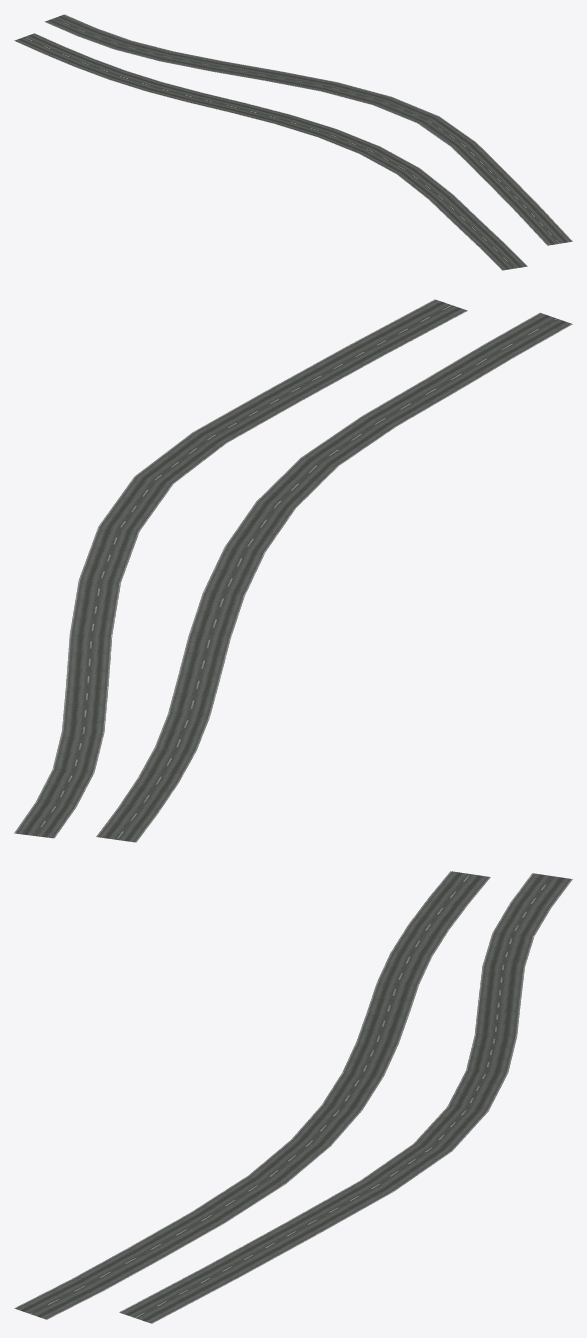
The model's file is lodcuntwroad11.obj.
3 views of the same model, one above another, from view 1: azimuth 30°, elevation 25°; view 2: azimuth 150°, elevation 25°; view 3: azimuth 330°, elevation 25° (orthographic). The views are drawn at different scales.
Parts seen in each view (by area): view 1: LODcuntwroad11; view 2: LODcuntwroad11; view 3: LODcuntwroad11.
Boxes of the visible parts, box(x1,y1,x2,y2) form: LODcuntwroad11: box(14, 14, 572, 270); LODcuntwroad11: box(14, 299, 572, 842); LODcuntwroad11: box(14, 871, 572, 1323).
Bounding box in the file's own units: 108 × 14.13 × 352.
1 material, 1 textured.
